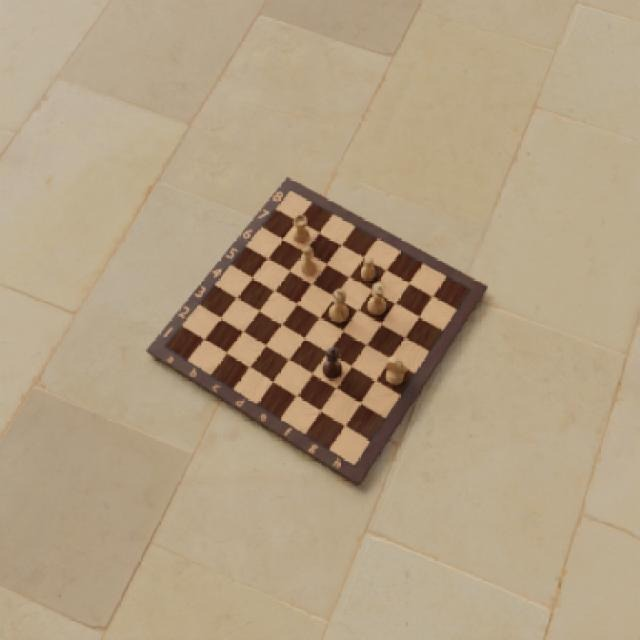black-king: (323, 346, 343, 381)
white-bishop: (301, 246, 319, 277)
white-king: (329, 287, 349, 325)
white-knight: (384, 354, 407, 387)
white-pawn: (360, 257, 377, 281)
white-queen: (368, 280, 386, 318)
white-rook: (294, 214, 310, 245)
